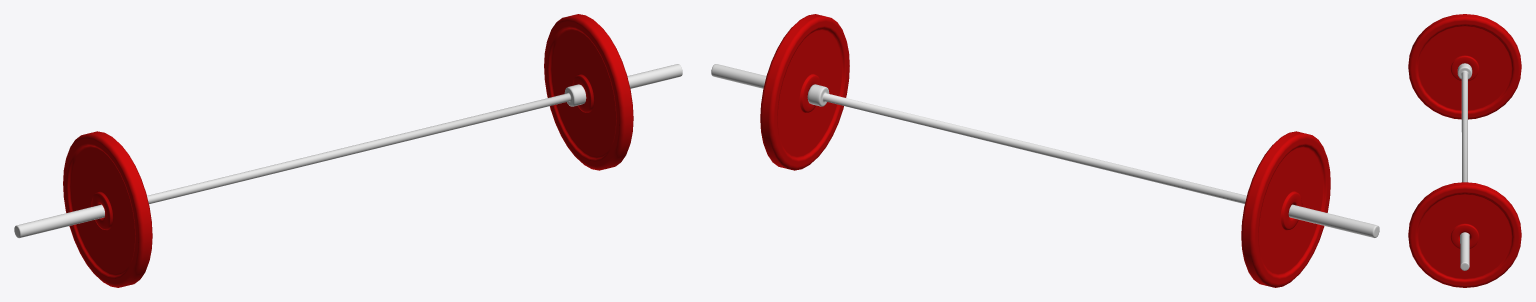
The model's file is BackBarbell2.fbx.
3 renders of one model, left to right at view 1: azimuth 30°, elevation 25°; view 2: azimuth 150°, elevation 25°; view 3: azimuth 270°, elevation 25°, orthographic. The views are drawn at different scales.
Parts seen in each view (by area): view 1: Cylinder; view 2: Cylinder; view 3: Cylinder.
Part boxes in pixels (x1=…): Cylinder: x1=14, y1=14, x2=682, y2=287; Cylinder: x1=711, y1=14, x2=1379, y2=287; Cylinder: x1=1408, y1=14, x2=1521, y2=287.
Size of the model in its own units: 223 by 45.97 by 45.97.
